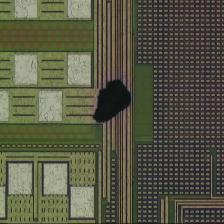PARTICLE: (91, 78, 137, 127)
